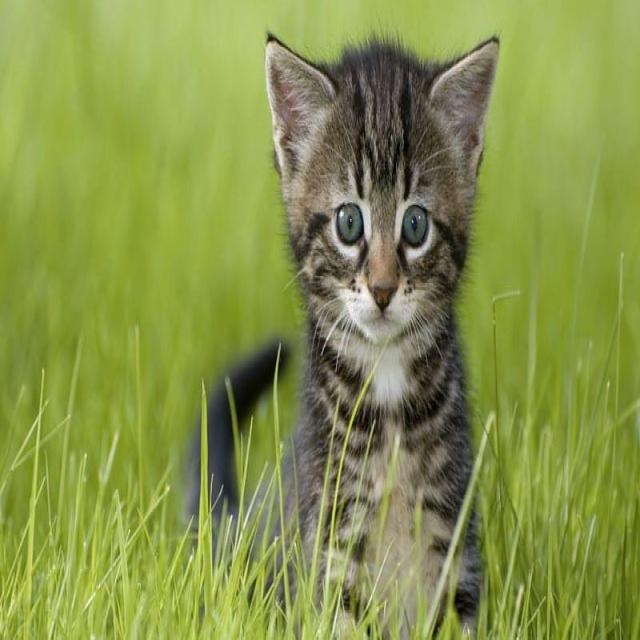Cat: (257, 17, 506, 375)
